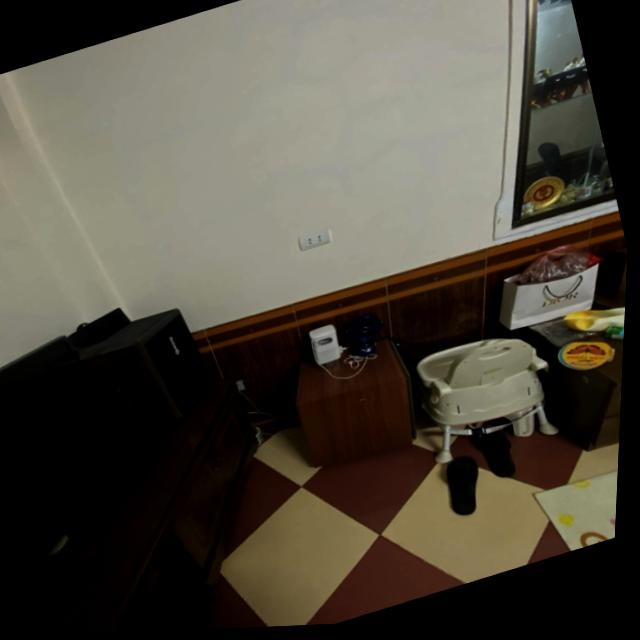outlet: (296, 226, 332, 252)
